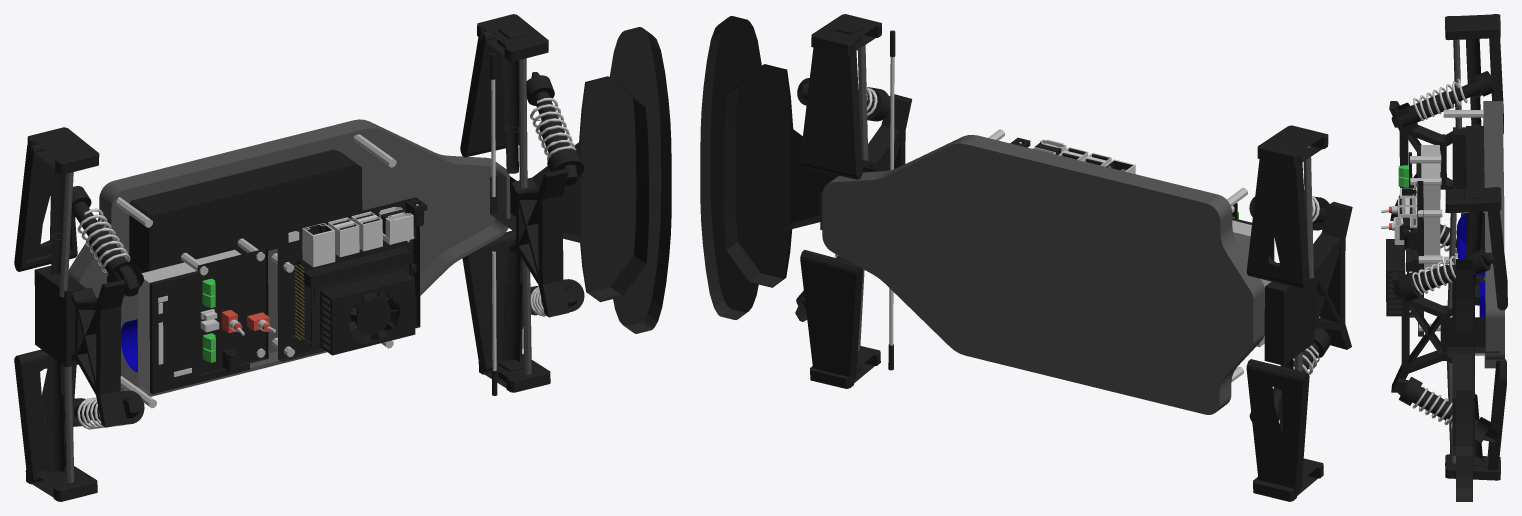
File: roboracer_chassis.glb
The picture shows the model from 3 angles, left to right: view 1: azimuth 30°, elevation 25°; view 2: azimuth 150°, elevation 25°; view 3: azimuth 270°, elevation 25°; orthographic projection. The views are drawn at different scales.
Visible parts, largest first — view 1: roboracer_chassis; view 2: roboracer_chassis; view 3: roboracer_chassis.
Part boxes in pixels (x1,y1,x2,y2): roboracer_chassis: (14, 14, 671, 501); roboracer_chassis: (700, 14, 1352, 501); roboracer_chassis: (1381, 14, 1507, 501).
Bounding box in the file's own units: 0.4494 × 0.2408 × 0.0984.
1 material, 1 textured.
